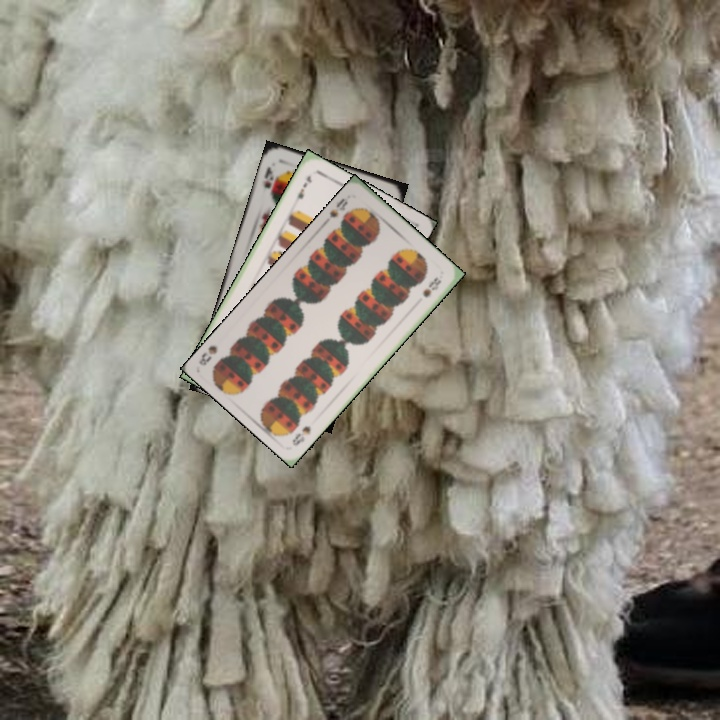E7: (290, 171, 315, 207)
S8: (288, 422, 313, 449), (325, 194, 350, 220)
SK: (260, 163, 276, 191)
